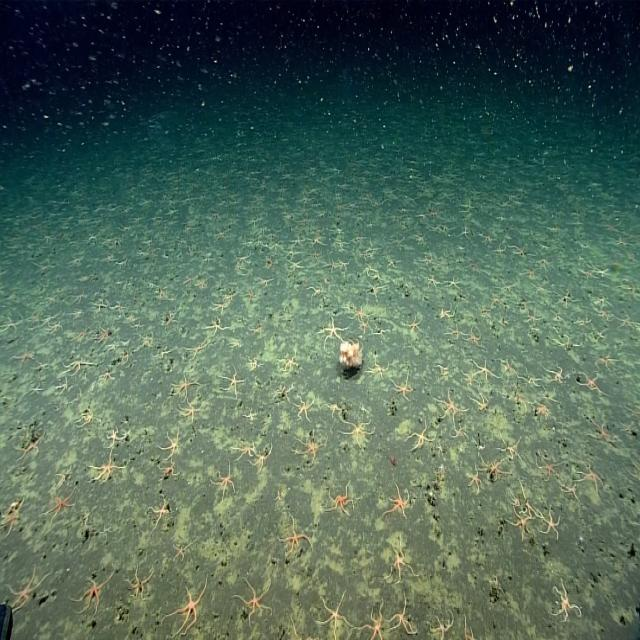brittle-stars: (7, 556, 45, 613), (69, 565, 109, 619), (167, 582, 207, 631), (318, 590, 356, 637), (233, 579, 272, 621), (547, 581, 581, 626), (278, 521, 312, 561), (362, 592, 388, 640), (123, 564, 150, 608), (384, 483, 413, 522), (336, 417, 372, 448), (386, 543, 413, 581), (392, 590, 414, 636), (212, 466, 235, 508), (320, 488, 360, 512), (90, 453, 119, 486), (433, 396, 464, 426), (538, 506, 563, 542), (295, 436, 323, 468), (170, 361, 195, 394), (39, 492, 70, 518), (530, 454, 561, 480), (426, 608, 451, 640), (148, 498, 173, 530), (317, 318, 344, 347), (214, 372, 246, 396), (582, 456, 603, 492), (0, 513, 22, 546), (595, 413, 614, 450), (12, 442, 45, 463), (156, 429, 182, 455), (409, 423, 435, 449), (496, 435, 521, 461), (391, 375, 415, 402), (168, 542, 196, 564), (251, 452, 274, 478), (510, 515, 532, 542), (288, 397, 316, 418), (238, 428, 254, 463), (466, 460, 480, 500), (508, 384, 528, 412), (272, 379, 295, 403), (481, 458, 504, 481), (476, 354, 497, 379), (466, 321, 484, 349), (446, 421, 465, 447), (405, 308, 423, 335), (366, 358, 386, 382), (582, 372, 601, 397), (180, 401, 202, 422), (67, 358, 92, 375), (154, 462, 176, 481), (0, 311, 19, 333), (474, 396, 492, 419), (519, 494, 535, 519), (562, 480, 582, 500), (95, 324, 116, 342), (451, 319, 465, 346), (16, 348, 34, 368), (185, 340, 209, 355), (348, 301, 366, 321), (529, 402, 549, 420), (439, 299, 453, 324), (284, 352, 302, 371), (324, 397, 341, 417), (108, 429, 122, 452), (205, 303, 227, 317), (459, 372, 478, 388), (208, 316, 222, 337), (523, 374, 543, 388), (140, 334, 156, 350), (306, 286, 324, 300), (364, 286, 385, 298), (421, 276, 439, 290), (554, 339, 576, 350), (324, 259, 336, 279), (597, 263, 612, 279), (592, 326, 610, 339), (160, 312, 179, 324), (69, 290, 85, 304), (618, 316, 638, 327), (248, 324, 262, 339), (46, 321, 62, 334), (498, 280, 514, 293), (577, 268, 597, 278), (560, 292, 574, 306), (245, 288, 255, 307), (75, 330, 88, 344), (597, 352, 612, 364), (256, 276, 271, 288), (118, 350, 129, 366), (374, 328, 390, 339), (372, 269, 383, 285), (554, 365, 563, 384), (101, 366, 110, 384), (435, 438, 444, 456), (248, 357, 262, 368), (26, 387, 40, 398), (361, 321, 370, 338), (114, 300, 124, 315), (438, 368, 453, 378), (531, 285, 546, 295), (337, 265, 349, 277), (227, 338, 242, 347), (527, 311, 538, 323), (133, 317, 143, 330), (95, 300, 111, 308), (504, 359, 513, 373), (445, 277, 459, 286), (56, 381, 67, 392), (84, 410, 94, 422), (600, 311, 613, 320), (153, 287, 167, 295), (37, 360, 48, 368), (126, 312, 133, 324), (200, 278, 208, 288), (76, 310, 82, 318)
